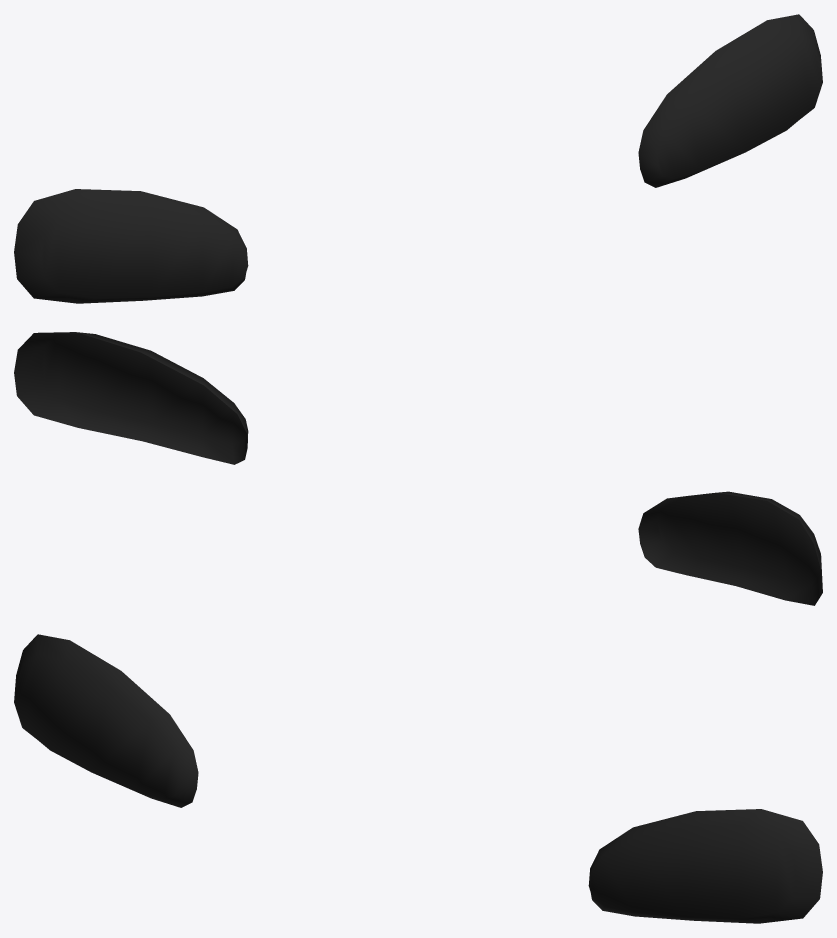
Rendered from eyebrow_5.fbx.
3 renders of one model, top to bottom at view 1: azimuth 30°, elevation 25°; view 2: azimuth 150°, elevation 25°; view 3: azimuth 330°, elevation 25°, orthographic.
Parts seen in each view (by area): view 1: eyebrow_5; view 2: eyebrow_5; view 3: eyebrow_5.
Boxes of the visible parts, box(x1,y1,x2,y2) form: eyebrow_5: box(14, 14, 822, 303); eyebrow_5: box(14, 332, 822, 605); eyebrow_5: box(14, 634, 822, 923).
Bounding box in the file's own units: 0.6841 × 0.0951 × 0.0552.
